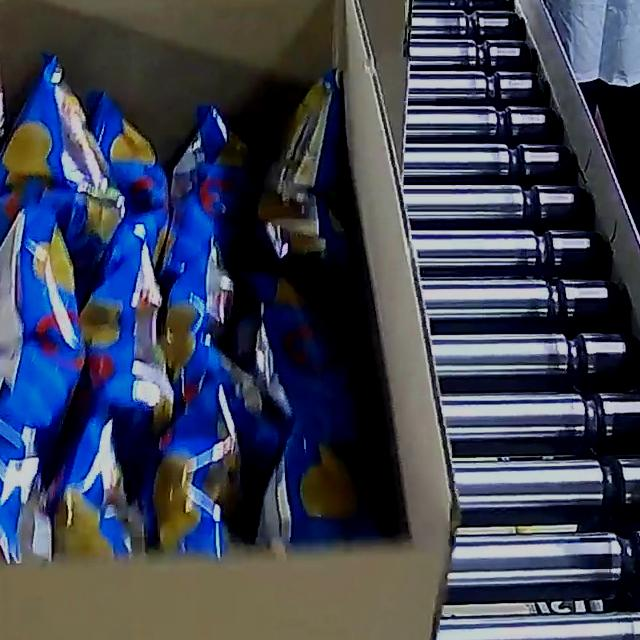paprika: (0, 50, 387, 564)
